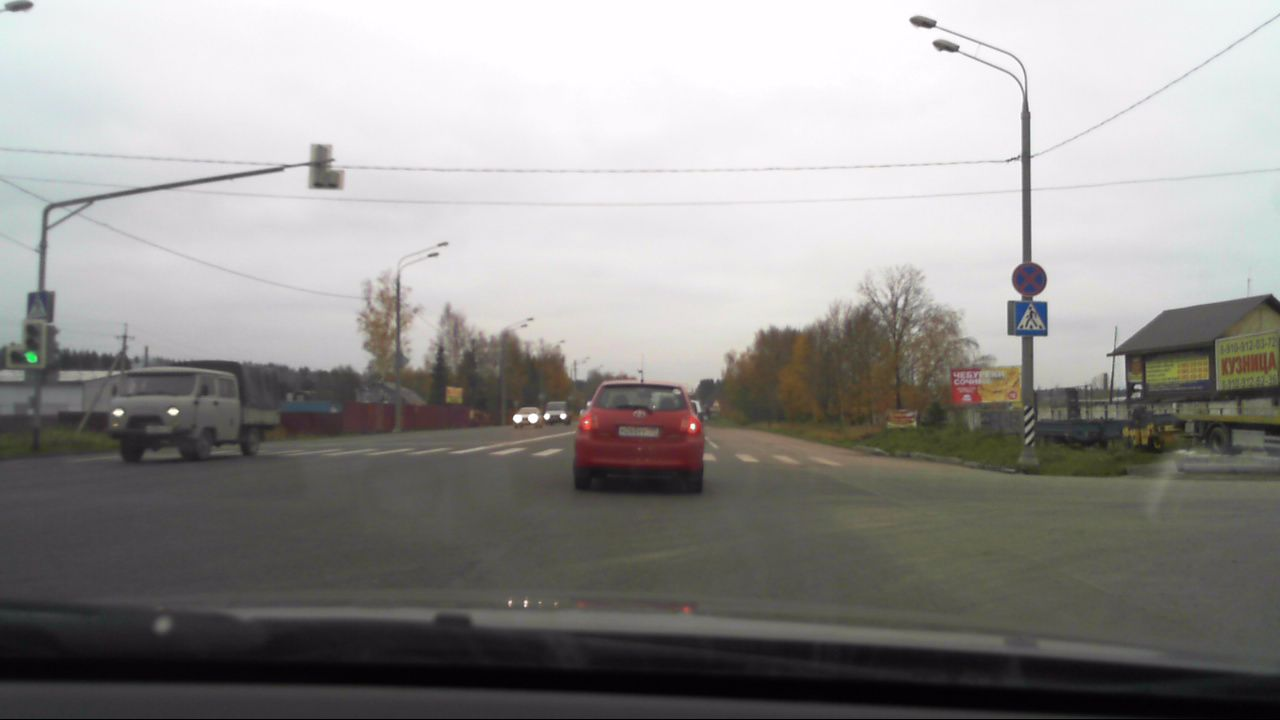No Parking: (1010, 261, 1049, 299)
